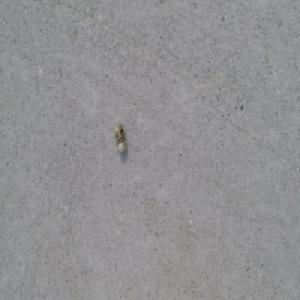BoltNutSet: (113, 123, 126, 153)
